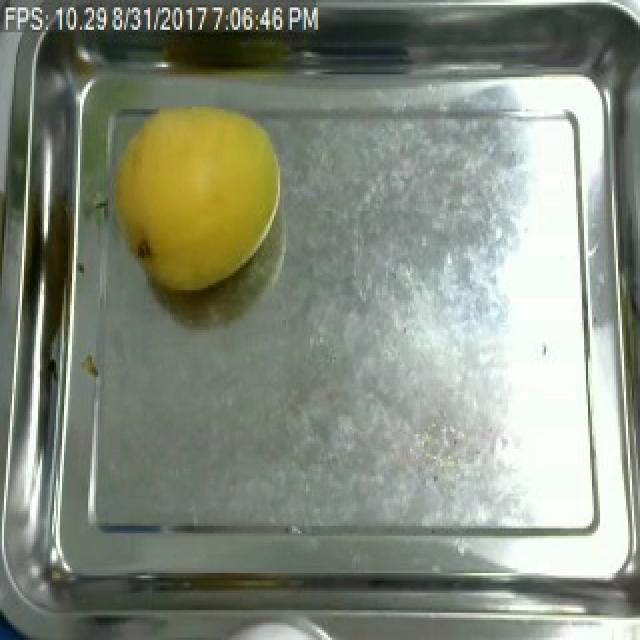fruit: (100, 97, 290, 305)
